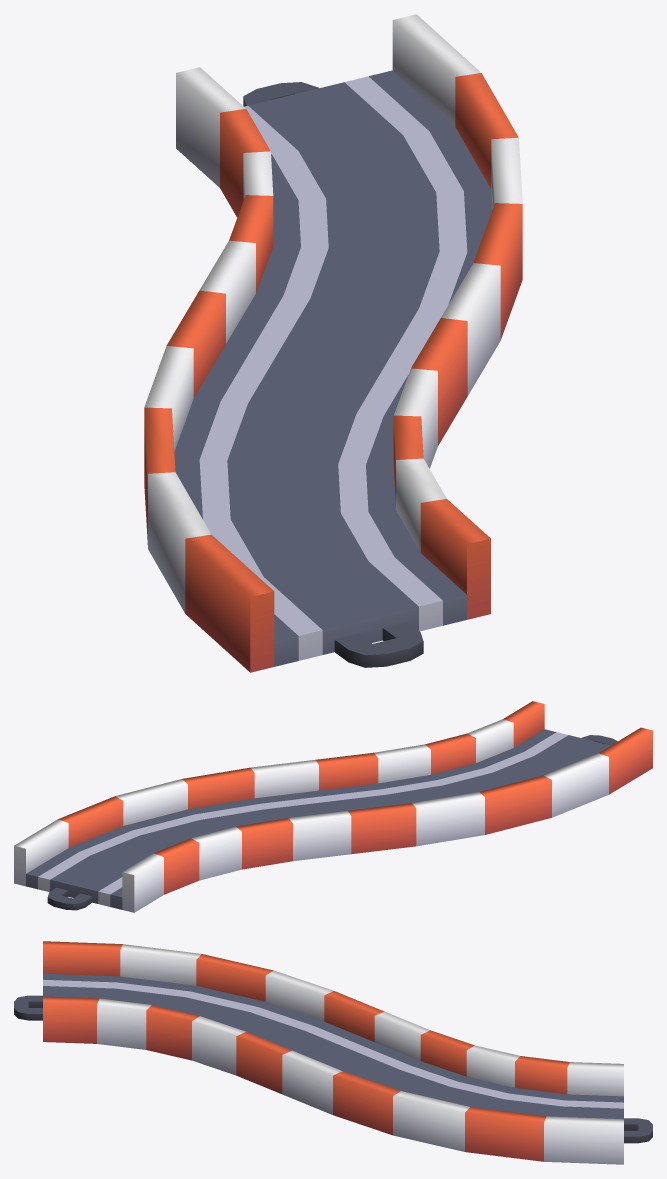
Rendered from kenney-toy-car-track-road-narrow-curve.glb.
The picture shows the model from 3 angles, top to bottom: view 1: azimuth 30°, elevation 25°; view 2: azimuth 150°, elevation 25°; view 3: azimuth 270°, elevation 25°; orthographic projection. The views are drawn at different scales.
Parts seen in each view (by area): view 1: track-road-narrow-curve; view 2: track-road-narrow-curve; view 3: track-road-narrow-curve.
Boxes of the visible parts, left/top/right/bottom form: track-road-narrow-curve: left=144, top=14, right=522, bottom=672; track-road-narrow-curve: left=14, top=701, right=652, bottom=912; track-road-narrow-curve: left=14, top=941, right=652, bottom=1164.
Size of the model in its own units: 3 by 0.2997 by 4.4.
1 material, 1 textured.
